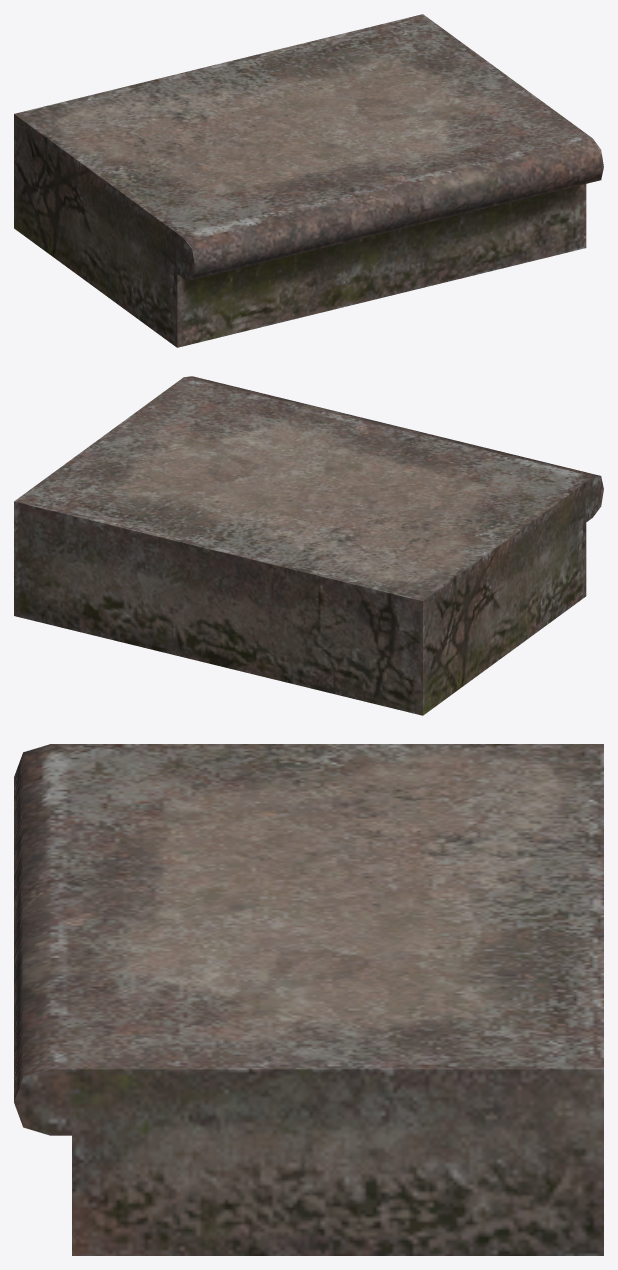
File: SM_Curb_07.fbx
3 views of the same model, one above another, from view 1: azimuth 30°, elevation 25°; view 2: azimuth 150°, elevation 25°; view 3: azimuth 270°, elevation 25° (orthographic). The views are drawn at different scales.
Visible parts, largest first — view 1: SM_curb_07; view 2: SM_curb_07; view 3: SM_curb_07.
Boxes of the visible parts, x1=… form: SM_curb_07: x1=14, y1=14, x2=603, y2=347; SM_curb_07: x1=14, y1=376, x2=603, y2=715; SM_curb_07: x1=14, y1=744, x2=603, y2=1255.
Size of the model in its own units: 40.65 by 10.88 by 31.15.
